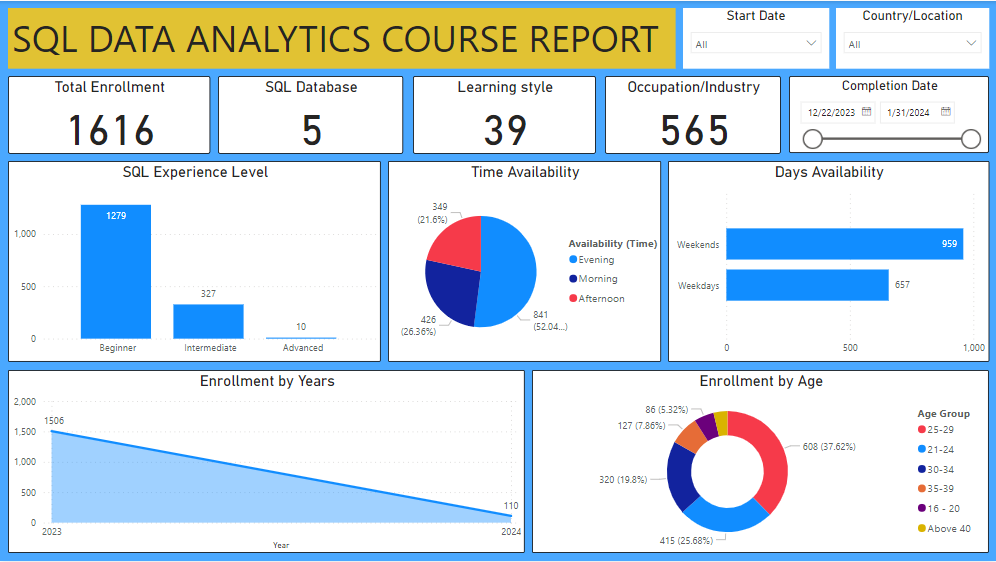

The page's visual inventory and layout, read from the dashboard file:
{"tool":"powerbi","page":{"name":"Page 1","canvas":[1280,720],"ordinal":0},"visuals":[{"type":"card","title":"Total Enrollment","fields":{"Values":["SQL for Data Analysis(1-1621).Start time"]},"box":[10.3,96.4,259.6,100.2],"z":0},{"type":"textbox","box":[10.3,9,858.5,78.4],"z":1000},{"type":"areaChart","title":"Enrollment by Years","fields":{"Category":["SQL for Data Analysis(1-1621).Start time.Variation.Date Hierarchy.Year","SQL for Data Analysis(1-1621).Start time.Variation.Date Hierarchy.Quarter","SQL for Data Analysis(1-1621).Start time.Variation.Date Hierarchy.Month","SQL for Data Analysis(1-1621).Start time.Variation.Date Hierarchy.Day"],"Y":["SQL for Data Analysis(1-1621).Your name"]},"box":[10.3,474.2,664.4,235.2],"z":2000},{"type":"columnChart","title":"SQL Experience Level","fields":{"Category":["SQL for Data Analysis(1-1621).SQL Experience Level"],"Y":["SQL for Data Analysis(1-1621).SQL Experience Level"]},"box":[10.3,205.6,479.4,258.3],"z":3000},{"type":"donutChart","title":"Enrollment by Age","fields":{"Category":["SQL for Data Analysis(1-1621).Age Group"],"Y":["SQL for Data Analysis(1-1621).Age Group"]},"box":[683.7,474.2,587.3,235.2],"z":4000},{"type":"card","title":"SQL Database","fields":{"Values":["SQL for Data Analysis(1-1621).Preferred SQL Database"]},"box":[280.2,96.4,237.8,100.2],"z":5000},{"type":"card","title":"Learning style","fields":{"Values":["SQL for Data Analysis(1-1621).Preferred Learning Style"]},"box":[530.8,96.4,235.2,100.2],"z":6000},{"type":"card","title":"Occupation/Industry","fields":{"Values":["SQL for Data Analysis(1-1621).Occupation/Industry"]},"box":[777.5,96.4,226.2,100.2],"z":7000},{"type":"barChart","title":"Days Availability","fields":{"Category":["SQL for Data Analysis(1-1621).Availability (Days)"],"Y":["SQL for Data Analysis(1-1621).Availability (Days)"]},"box":[858.5,205.6,412.5,258.3],"z":8000},{"type":"pieChart","title":"Time Availability","fields":{"Category":["SQL for Data Analysis(1-1621).Availability (Time)"],"Y":["SQL for Data Analysis(1-1621).Availability (Time)"]},"box":[498.6,205.6,350.8,258.3],"z":9000},{"type":"slicer","title":"Country/Location","fields":{"Values":["SQL for Data Analysis(1-1621).Country/Location"]},"box":[1074.4,9,196.6,78.4],"z":10000},{"type":"slicer","title":"Start Date","fields":{"Values":["SQL for Data Analysis(1-1621).Start time.Variation.Date Hierarchy.Year","SQL for Data Analysis(1-1621).Start time.Variation.Date Hierarchy.Quarter","SQL for Data Analysis(1-1621).Start time.Variation.Date Hierarchy.Month","SQL for Data Analysis(1-1621).Start time.Variation.Date Hierarchy.Day"]},"box":[877.8,9,187.6,78.4],"z":11000},{"type":"slicer","title":"Completion Date","fields":{"Values":["SQL for Data Analysis(1-1621).Completion time"]},"box":[1014,96.4,257,99],"z":12000}]}

Visuals, with their boxes in screenshot pixels (x1, y1, x2, y2), scaled from the page's 1280x720 canvas onto the 996x562 screenshot:
"Total Enrollment" card: <bbox>8, 75, 210, 153</bbox>
textbox: <bbox>8, 7, 676, 68</bbox>
"Enrollment by Years" areaChart: <bbox>8, 370, 525, 554</bbox>
"SQL Experience Level" columnChart: <bbox>8, 160, 381, 362</bbox>
"Enrollment by Age" donutChart: <bbox>532, 370, 989, 554</bbox>
"SQL Database" card: <bbox>218, 75, 403, 153</bbox>
"Learning style" card: <bbox>413, 75, 596, 153</bbox>
"Occupation/Industry" card: <bbox>605, 75, 781, 153</bbox>
"Days Availability" barChart: <bbox>668, 160, 989, 362</bbox>
"Time Availability" pieChart: <bbox>388, 160, 661, 362</bbox>
"Country/Location" slicer: <bbox>836, 7, 989, 68</bbox>
"Start Date" slicer: <bbox>683, 7, 829, 68</bbox>
"Completion Date" slicer: <bbox>789, 75, 989, 153</bbox>
